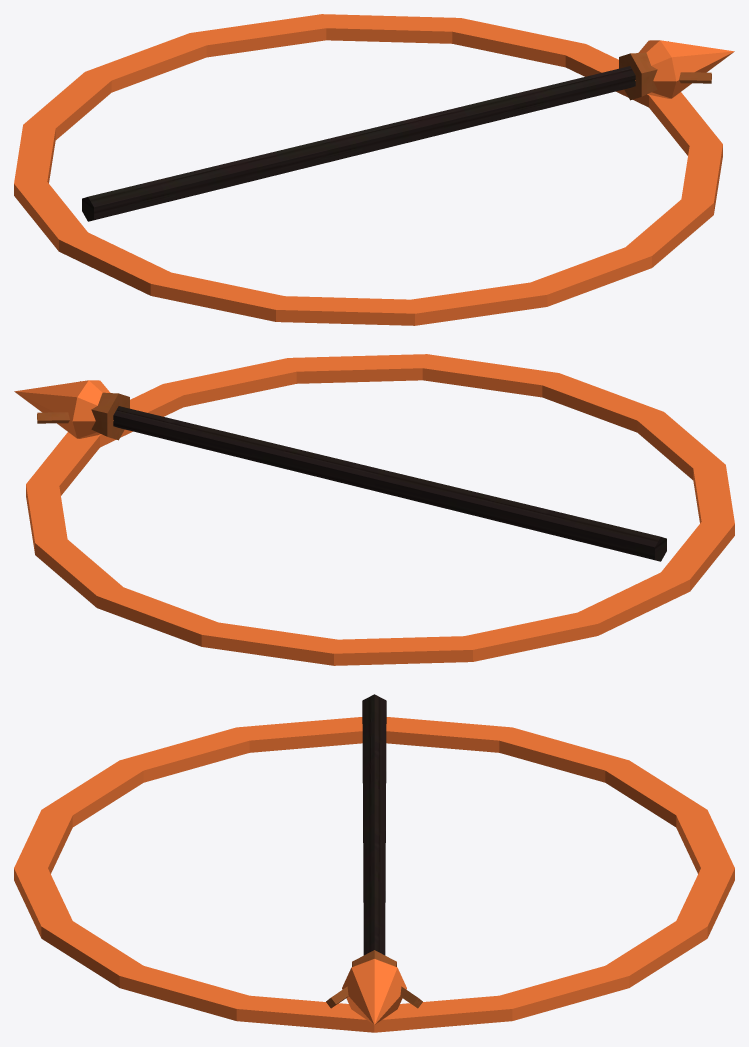
Rendered from loot_staff_g4.glb.
The picture shows the model from 3 angles, top to bottom: view 1: azimuth 30°, elevation 25°; view 2: azimuth 150°, elevation 25°; view 3: azimuth 270°, elevation 25°; orthographic projection.
Parts seen in each view (by area): view 1: loot_staff_g4; view 2: loot_staff_g4; view 3: loot_staff_g4.
Boxes of the visible parts, left/top/right/bottom form: loot_staff_g4: left=14, top=14, right=734, bottom=325; loot_staff_g4: left=14, top=354, right=734, bottom=665; loot_staff_g4: left=14, top=694, right=734, bottom=1032.
Size of the model in its own units: 1.81 by 0.1651 by 1.66.
3 materials, 2 textured.
